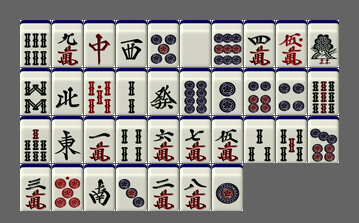0m: (276, 20, 307, 67)
0p: (52, 164, 83, 211)
0s: (84, 68, 115, 115)
1m: (84, 116, 115, 163)
1p: (212, 164, 243, 211)
1s: (308, 20, 339, 67)
1z: (52, 116, 83, 163)
2m: (148, 164, 179, 211)
2p: (212, 68, 243, 115)
2s: (116, 68, 147, 115)
2z: (84, 164, 115, 211)
3m: (20, 164, 51, 211)
3p: (116, 164, 147, 211)
3s: (244, 116, 275, 163)
3z: (116, 20, 147, 67)
4m: (244, 20, 275, 67)
4p: (276, 68, 307, 115)
4s: (116, 116, 147, 163)
4z: (52, 68, 83, 115)
5m: (212, 116, 243, 163)
5p: (148, 20, 179, 67)
5s: (276, 116, 307, 163)
5z: (180, 20, 211, 67)
6m: (148, 116, 179, 163)
6p: (244, 68, 275, 115)
6s: (20, 20, 51, 67)
6z: (148, 68, 179, 115)
7m: (180, 116, 211, 163)
7p: (308, 116, 339, 163)
7s: (20, 116, 51, 163)
7z: (84, 20, 115, 67)
8m: (180, 164, 211, 211)
8p: (180, 68, 211, 115)
8s: (20, 68, 51, 115)
9m: (52, 20, 83, 67)
9p: (212, 20, 243, 67)
9s: (308, 68, 339, 115)
